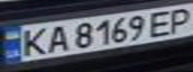1: (93, 17, 115, 47)
6: (109, 15, 133, 44)
8: (72, 20, 93, 51)
9: (124, 12, 151, 42)
A: (42, 23, 72, 53)
E: (145, 8, 178, 37)
K: (15, 25, 51, 58)
P: (163, 4, 193, 34)
